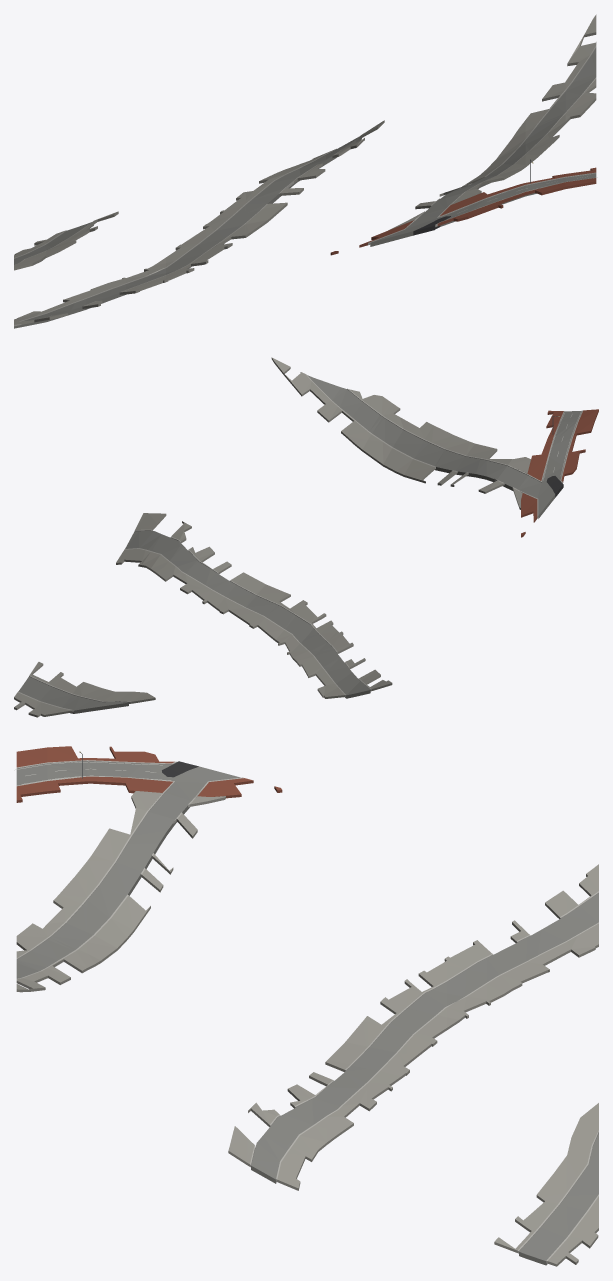
3 renders of one model, top to bottom at view 1: azimuth 90°, elevation 25°; view 2: azimuth 150°, elevation 25°; view 3: azimuth 270°, elevation 25°, orthographic. The views are drawn at different scales.
Bounding box in the file's own units: 147 × 82.21 × 146.
